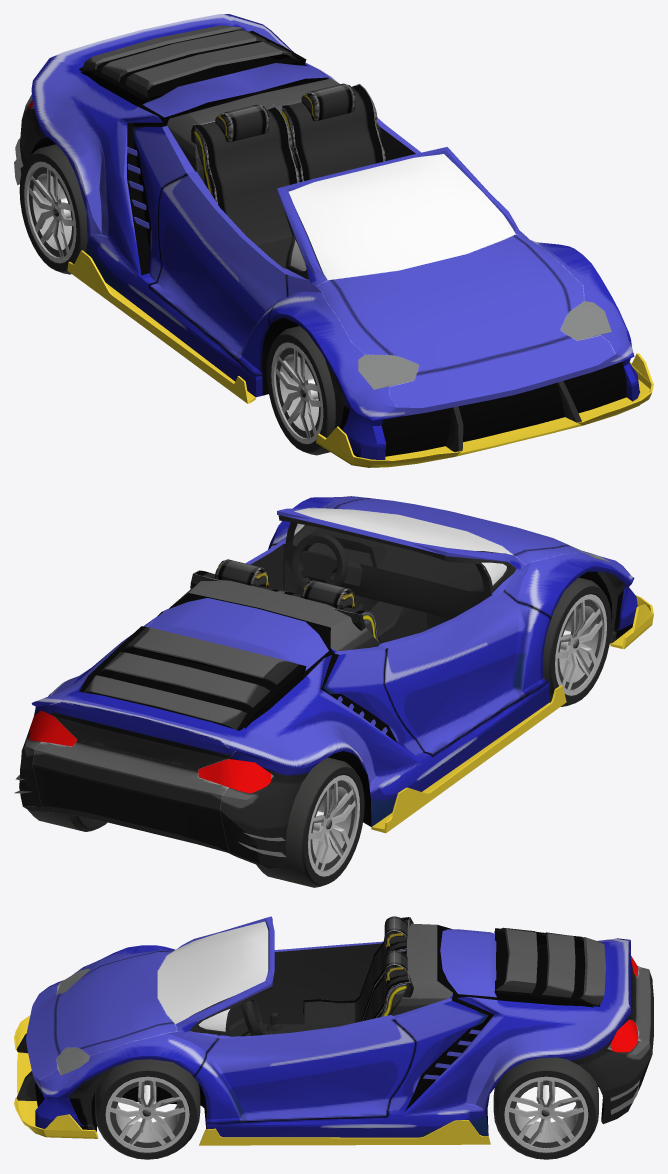
File: car.glb
3 renders of one model, top to bottom at view 1: azimuth 30°, elevation 25°; view 2: azimuth 150°, elevation 25°; view 3: azimuth 270°, elevation 25°, orthographic. The views are drawn at different scales.
Visible parts, largest first — view 1: HCR2_SC_Body, HCR2_SC_Window, HCR2_SC_Right_Seat, HCR2_SC_BodyKit, HCR2_SC_En_Cover, HCR2_SC_Left_Seat, HCR2_SC_RR_Rim, HCR2_SC_FR_Rim, HCR2_SC_LightsCover, HCR2_SC_FR_Tire, HCR2_SC_RR_Tire, HCR2_SC_Chassis (+1 smaller); view 2: HCR2_SC_Body, HCR2_SC_Interior, HCR2_SC_En_Cover, HCR2_SC_RR_Tire, HCR2_SC_Window, HCR2_SC_BodyKit, HCR2_SC_RR_Rim, HCR2_SC_FR_Rim, HCR2_SC_LightsCover, HCR2_SC_FR_Tire, HCR2_SC_Steer, HCR2_SC_Right_Seat (+3 smaller); view 3: HCR2_SC_Body, HCR2_SC_Window, HCR2_SC_Interior, HCR2_SC_En_Cover, HCR2_SC_BodyKit, HCR2_SC_RL_Rim, HCR2_SC_FL_Rim, HCR2_SC_RL_Tire, HCR2_SC_FL_Tire, HCR2_SC_Right_Seat, HCR2_SC_Left_Seat, HCR2_SC_LightsCover (+2 smaller).
Part boxes in pixels (box(x1,y1,x2,y2)): HCR2_SC_Body: box(14, 14, 639, 459); HCR2_SC_Window: box(288, 154, 515, 279); HCR2_SC_Right_Seat: box(191, 104, 321, 270); HCR2_SC_BodyKit: box(67, 250, 653, 467); HCR2_SC_En_Cover: box(80, 25, 306, 105); HCR2_SC_Left_Seat: box(282, 83, 385, 182); HCR2_SC_RR_Rim: box(24, 161, 76, 263); HCR2_SC_FR_Rim: box(271, 342, 323, 444); HCR2_SC_LightsCover: box(30, 101, 611, 389); HCR2_SC_FR_Tire: box(266, 326, 335, 455); HCR2_SC_RR_Tire: box(19, 144, 87, 274); HCR2_SC_Chassis: box(30, 137, 299, 395); HCR2_SC_Body: box(14, 496, 637, 868); HCR2_SC_Interior: box(250, 516, 506, 643); HCR2_SC_En_Cover: box(80, 626, 306, 730); HCR2_SC_RR_Tire: box(256, 757, 364, 887); HCR2_SC_Window: box(294, 508, 513, 585); HCR2_SC_BodyKit: box(371, 595, 653, 833); HCR2_SC_RR_Rim: box(308, 775, 359, 876); HCR2_SC_FR_Rim: box(555, 594, 606, 695); HCR2_SC_LightsCover: box(29, 544, 610, 793); HCR2_SC_FR_Tire: box(543, 577, 611, 706); HCR2_SC_Steer: box(292, 533, 348, 588); HCR2_SC_Right_Seat: box(279, 580, 381, 643); HCR2_SC_Body: box(26, 916, 653, 1137); HCR2_SC_Window: box(157, 921, 268, 1031); HCR2_SC_Interior: box(190, 921, 390, 1036); HCR2_SC_En_Cover: box(494, 927, 605, 1007); HCR2_SC_BodyKit: box(14, 1015, 490, 1145); HCR2_SC_RL_Rim: box(504, 1076, 588, 1152); HCR2_SC_FL_Rim: box(105, 1076, 189, 1152); HCR2_SC_RL_Tire: box(493, 1057, 598, 1159); HCR2_SC_FL_Tire: box(95, 1059, 200, 1159); HCR2_SC_Right_Seat: box(303, 916, 413, 1024); HCR2_SC_Left_Seat: box(363, 950, 413, 1020); HCR2_SC_LightsCover: box(56, 956, 638, 1075).
Bounding box in the file's own units: 2.18 × 1.35 × 4.71.
Materials: 4 (2 with a texture image).
